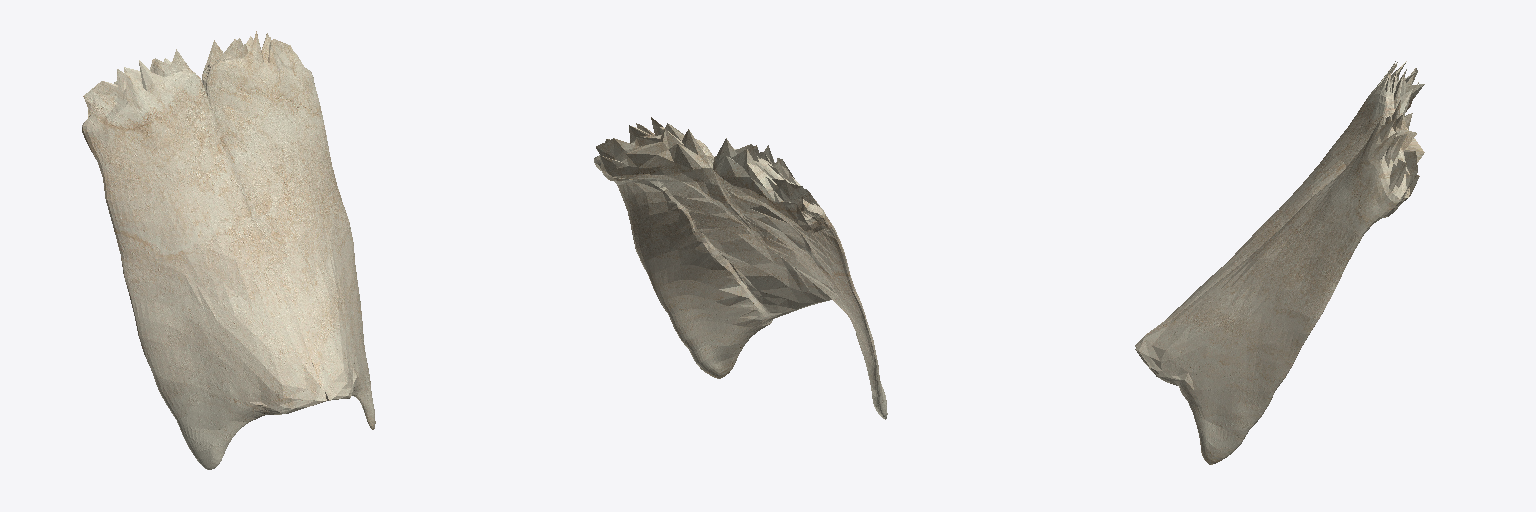
The picture shows the model from 3 angles: view 1: azimuth 30°, elevation 25°; view 2: azimuth 150°, elevation 25°; view 3: azimuth 270°, elevation 25°; orthographic projection.
Visible parts, largest first — view 1: nasal:pCube1 nasal:polySurface166 nasal:polySurface167 nasal:pol; view 2: nasal:pCube1 nasal:polySurface166 nasal:polySurface167 nasal:pol; view 3: nasal:pCube1 nasal:polySurface166 nasal:polySurface167 nasal:pol.
Part boxes in pixels (left/top/right/bottom): nasal:pCube1 nasal:polySurface166 nasal:polySurface167 nasal:pol: left=82, top=31, right=375, bottom=469; nasal:pCube1 nasal:polySurface166 nasal:polySurface167 nasal:pol: left=594, top=117, right=887, bottom=419; nasal:pCube1 nasal:polySurface166 nasal:polySurface167 nasal:pol: left=1135, top=61, right=1424, bottom=464.
Size of the model in its own units: 2 by 2.8 by 2.19.
Materials: 1 (1 with a texture image).